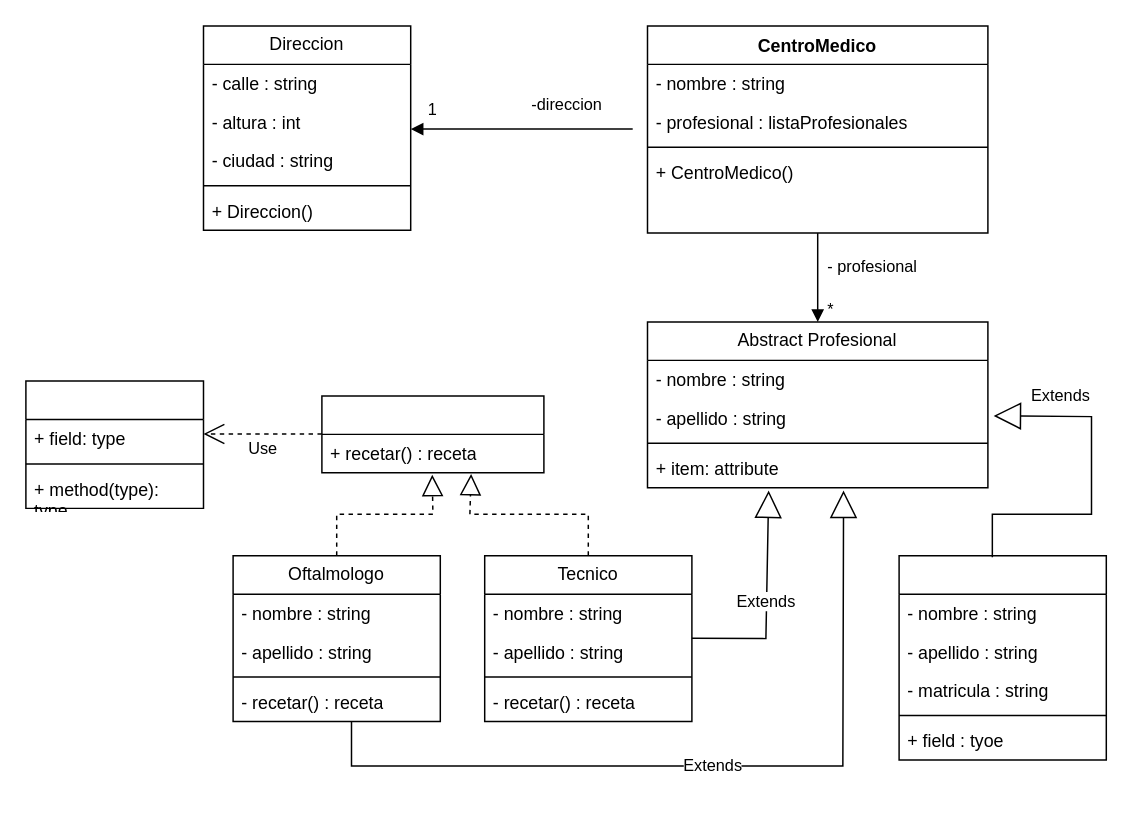
Image size: 1144x818. Some labels were removed from this diagram. Here are the shapes that lost their labels. From the top down, the box of each, then its label:
(24, 380, 204, 508): Receta
(320, 394, 544, 473): Interface Recetable
(898, 554, 1106, 760): Administrativo
